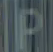Parking: (17, 4, 47, 51)
